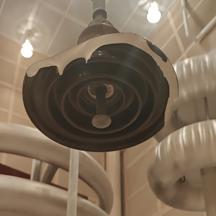insulator: (9, 3, 182, 159)
